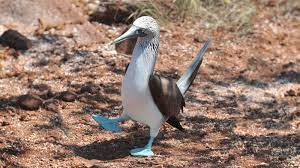Walking: (79, 7, 218, 163)
